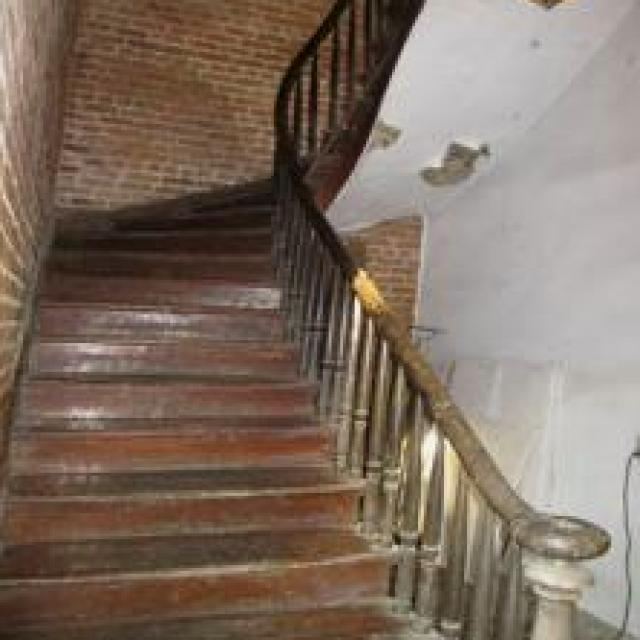upstair: (1, 385, 379, 638)
